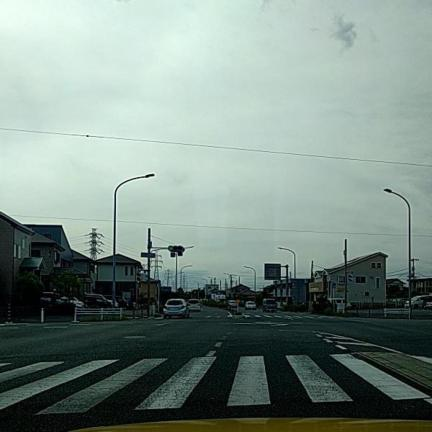Road: (0, 308, 431, 431)
